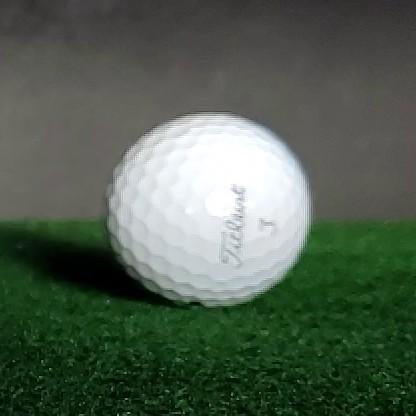golfball: (103, 113, 312, 307)
